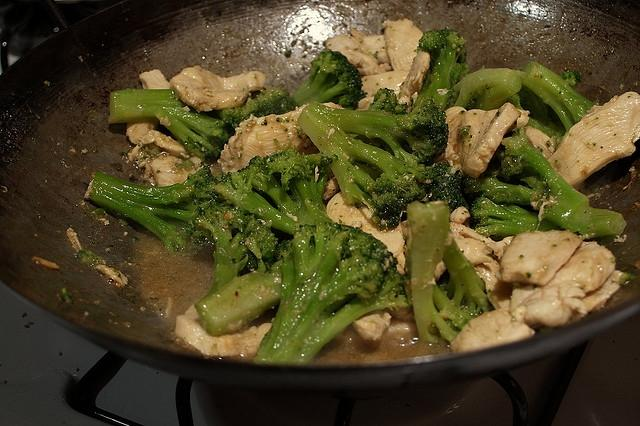broccoli: (296, 86, 468, 230), (254, 222, 411, 366), (462, 125, 626, 242), (404, 200, 496, 344), (85, 166, 218, 258), (213, 146, 339, 236), (194, 260, 284, 336), (520, 61, 598, 134), (290, 48, 368, 110), (154, 107, 230, 164), (212, 86, 300, 128), (414, 29, 467, 98), (449, 68, 525, 111), (109, 88, 198, 123)
